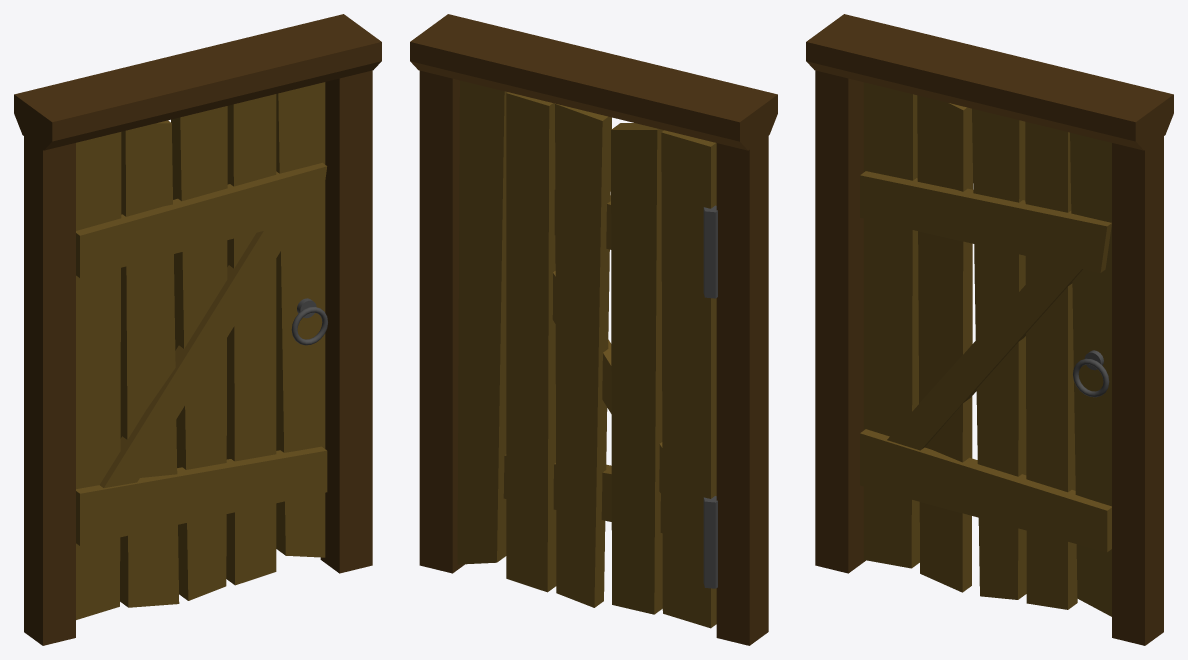
The model's file is Model_MineDoor.fbx.
The picture shows the model from 3 angles, left to right: view 1: azimuth 30°, elevation 25°; view 2: azimuth 150°, elevation 25°; view 3: azimuth 330°, elevation 25°; orthographic projection.
Parts seen in each view (by area): view 1: pCube1, pCube2, pCube11, pCube4, pCube7, pCube5, pCube3, pCube6, pCube10, pCube9, pCube8, Handle; view 2: pCube1, pCube5, pCube4, pCube3, pCube6, pCube7, pCube11, pCube2, Hinge1, Hinge2, pCube8, pCube10; view 3: pCube2, pCube1, pCube11, pCube3, pCube4, pCube5, pCube6, pCube7, pCube10, pCube9, pCube8, Handle.
Boxes of the visible parts, x1,y1,x2,y2 form: pCube1: (24, 132, 75, 645); pCube2: (320, 70, 372, 573); pCube11: (14, 14, 381, 150); pCube4: (120, 120, 179, 607); pCube7: (276, 82, 325, 557); pCube5: (171, 106, 227, 600); pCube3: (76, 132, 121, 619); pCube6: (226, 94, 276, 585); pCube10: (76, 446, 327, 545); pCube9: (76, 162, 327, 278); pCube8: (100, 222, 298, 487); Handle: (291, 306, 327, 345); pCube1: (716, 136, 768, 645); pCube5: (555, 103, 611, 607); pCube4: (611, 123, 663, 614); pCube3: (661, 130, 716, 628); pCube6: (506, 92, 556, 592); pCube7: (457, 80, 507, 564); pCube11: (410, 14, 777, 150); pCube2: (419, 70, 464, 573); Hinge1: (703, 496, 717, 588); Hinge2: (703, 205, 717, 298); pCube8: (552, 271, 662, 493); pCube10: (503, 454, 662, 533); pCube2: (1112, 132, 1163, 645); pCube1: (815, 70, 865, 573); pCube11: (806, 14, 1173, 150); pCube3: (863, 82, 919, 568); pCube4: (917, 95, 972, 592); pCube5: (972, 108, 1026, 599); pCube6: (1025, 121, 1077, 609); pCube7: (1070, 132, 1111, 616); pCube10: (860, 429, 1111, 552); pCube9: (860, 171, 1111, 272); pCube8: (887, 261, 1082, 450); Handle: (1073, 358, 1109, 397).
Bounding box in the file's own units: 2 × 3.08 × 0.4.
